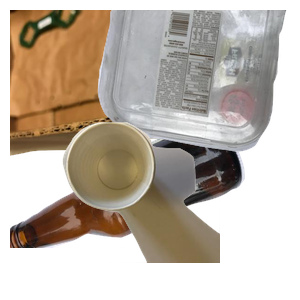cardboard: (10, 10, 237, 158)
glass: (10, 120, 247, 300)
plastic: (95, 10, 300, 154)
trash: (60, 120, 300, 300)
